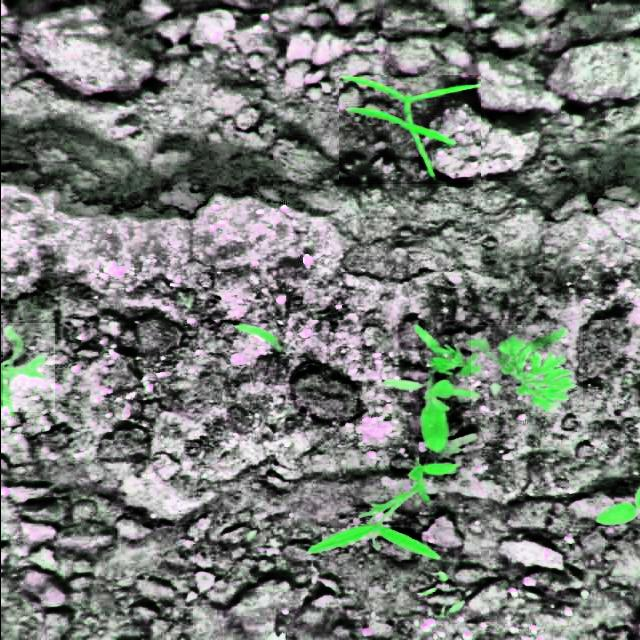Weeds: (302, 322, 470, 563), (338, 76, 480, 186), (2, 323, 54, 412)
undefined: (466, 325, 582, 413)
